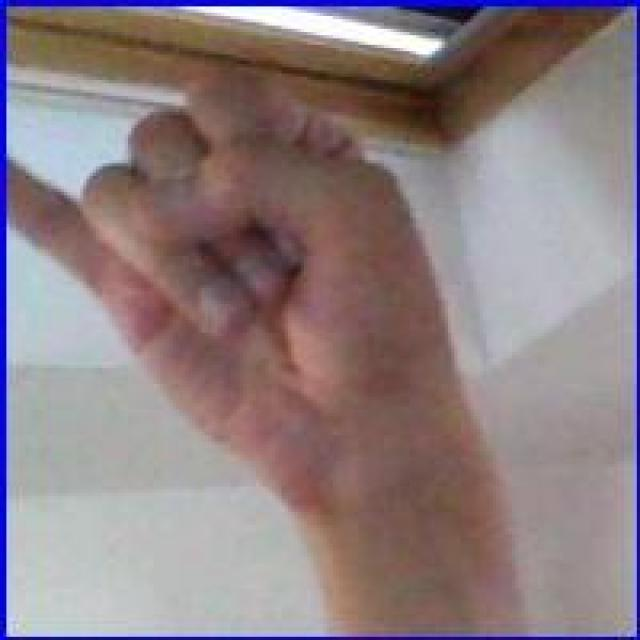J: (10, 43, 480, 533)
